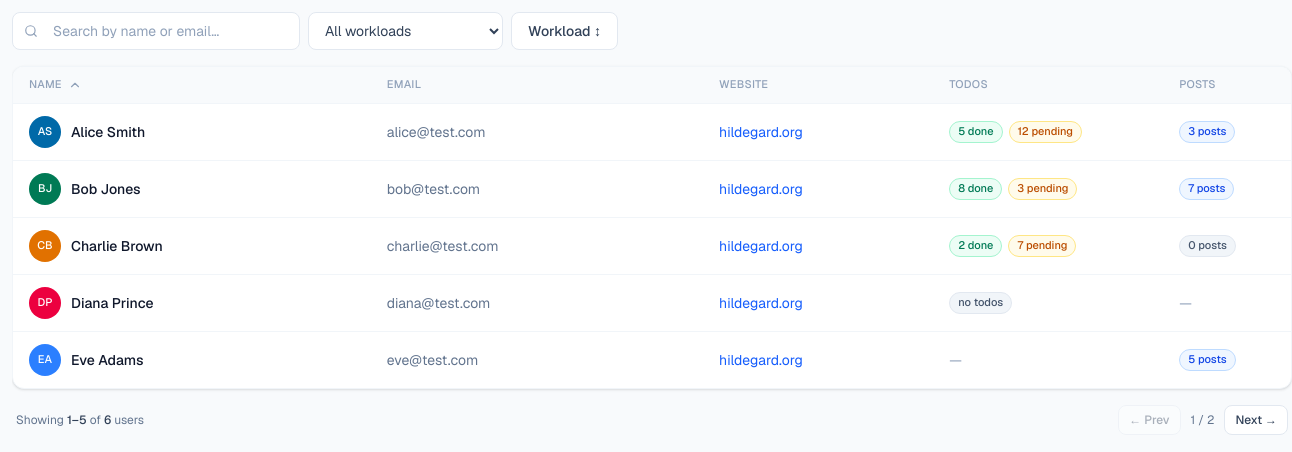
Test: UsersTable › shows empty state when no users match filters
Type "zzzznonexistent" into the field named "Search users" at {"x": 156, "y": 31}, box [12,12,300,50]
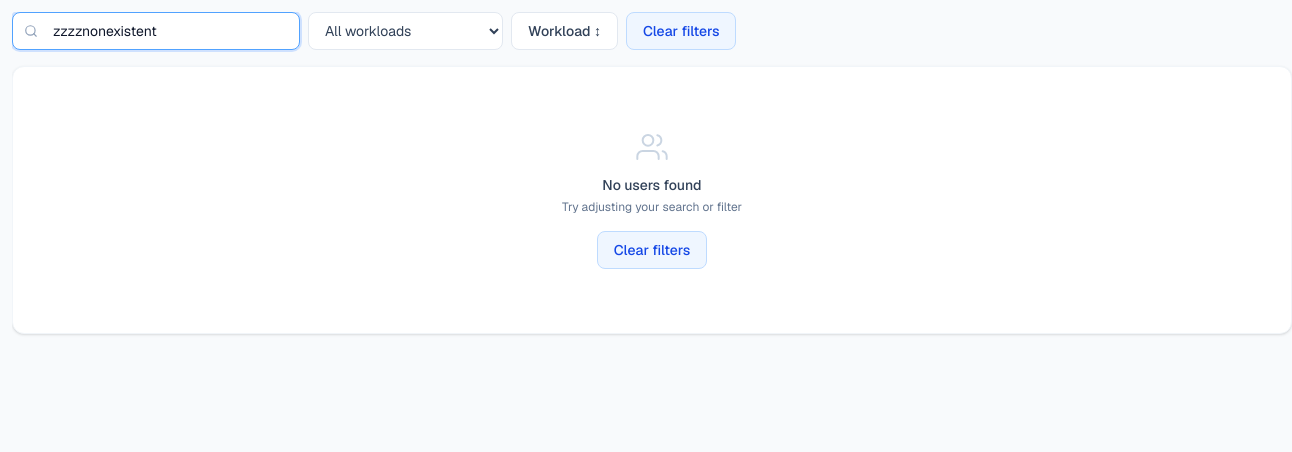
Result: the text "No users found" is shown at [602,175,702,195]
Result: the text "Try adjusting your search or filter" is shown at [562,199,742,215]
